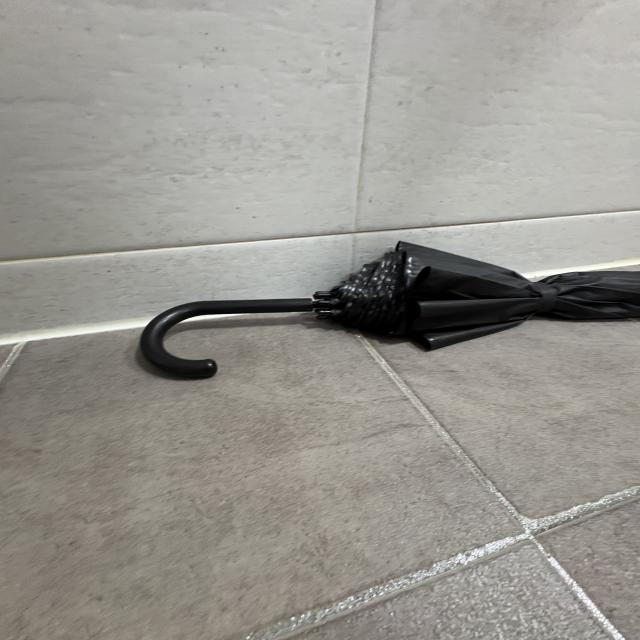umbrella: (142, 240, 640, 380)
